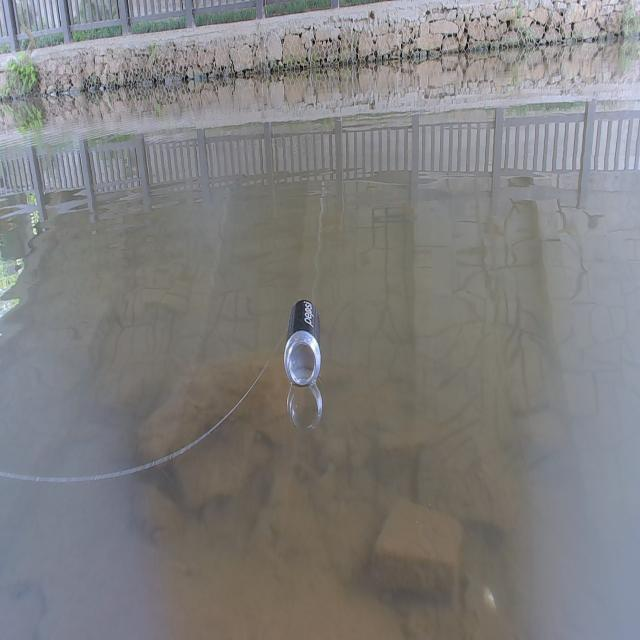garbage: (283, 297, 321, 387)
